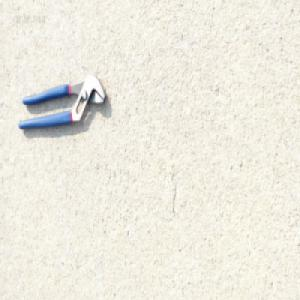Pliers: (16, 71, 107, 130)
